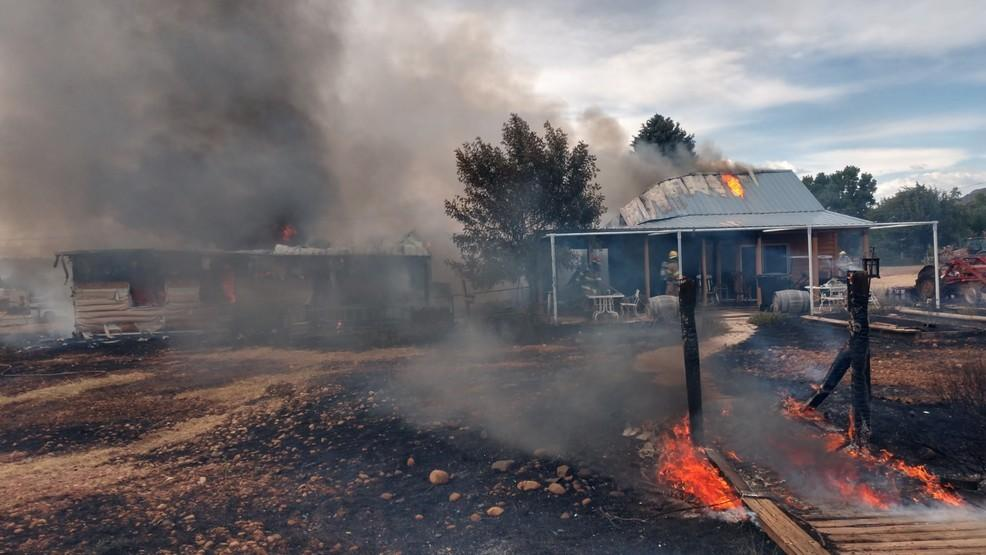fire: (860, 444, 953, 517), (657, 438, 728, 515)
smoke: (3, 5, 375, 237), (398, 332, 621, 465), (378, 9, 464, 228)
